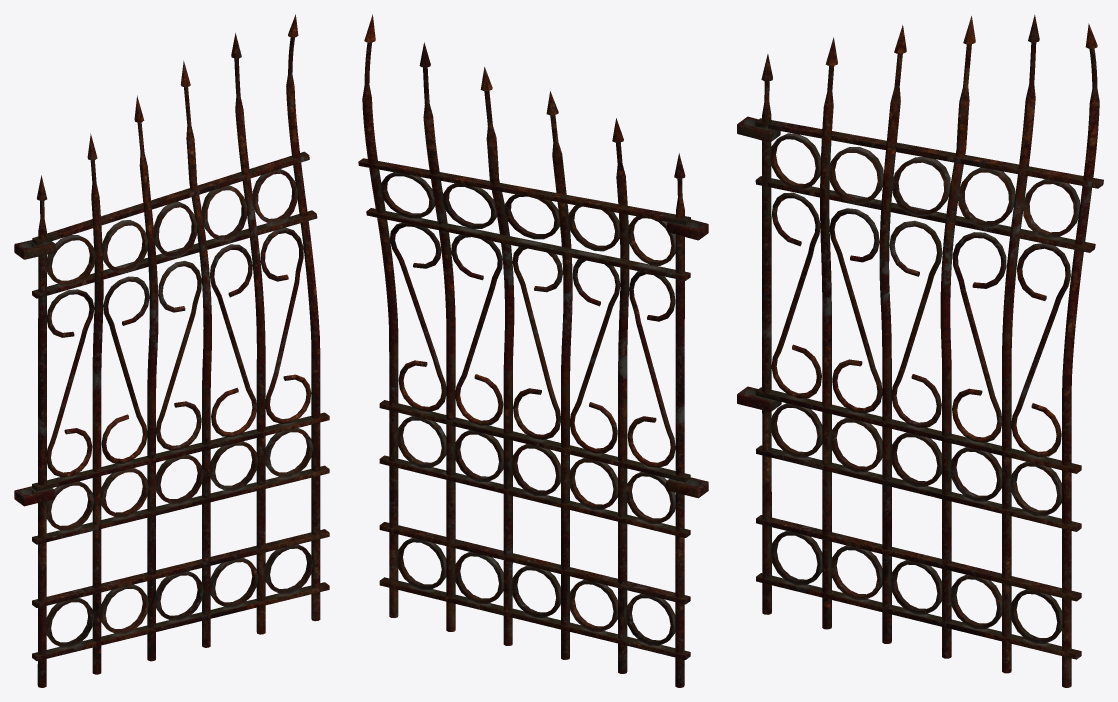
Rendered from SM_fence_09.fbx.
3 views of the same model, side by side, from view 1: azimuth 30°, elevation 25°; view 2: azimuth 150°, elevation 25°; view 3: azimuth 330°, elevation 25° (orthographic). The views are drawn at different scales.
Parts seen in each view (by area): view 1: SM_fence_09; view 2: SM_fence_09; view 3: SM_fence_09.
Boxes of the visible parts, bbox=[...] form: SM_fence_09: bbox=[14, 14, 329, 687]; SM_fence_09: bbox=[358, 14, 708, 687]; SM_fence_09: bbox=[737, 14, 1103, 687].
Bounding box in the file's own units: 104 × 191 × 19.55.
